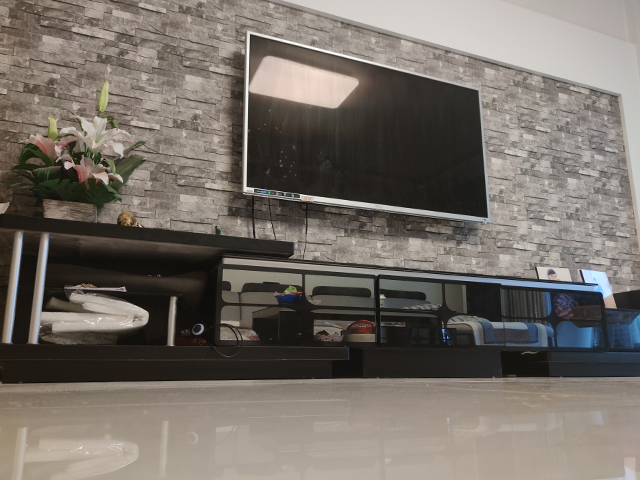cabinet: (1, 213, 640, 388)
